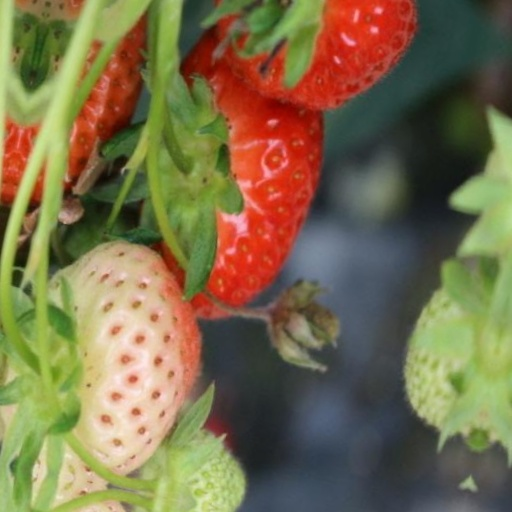Gray Mold: (260, 268, 359, 357)
